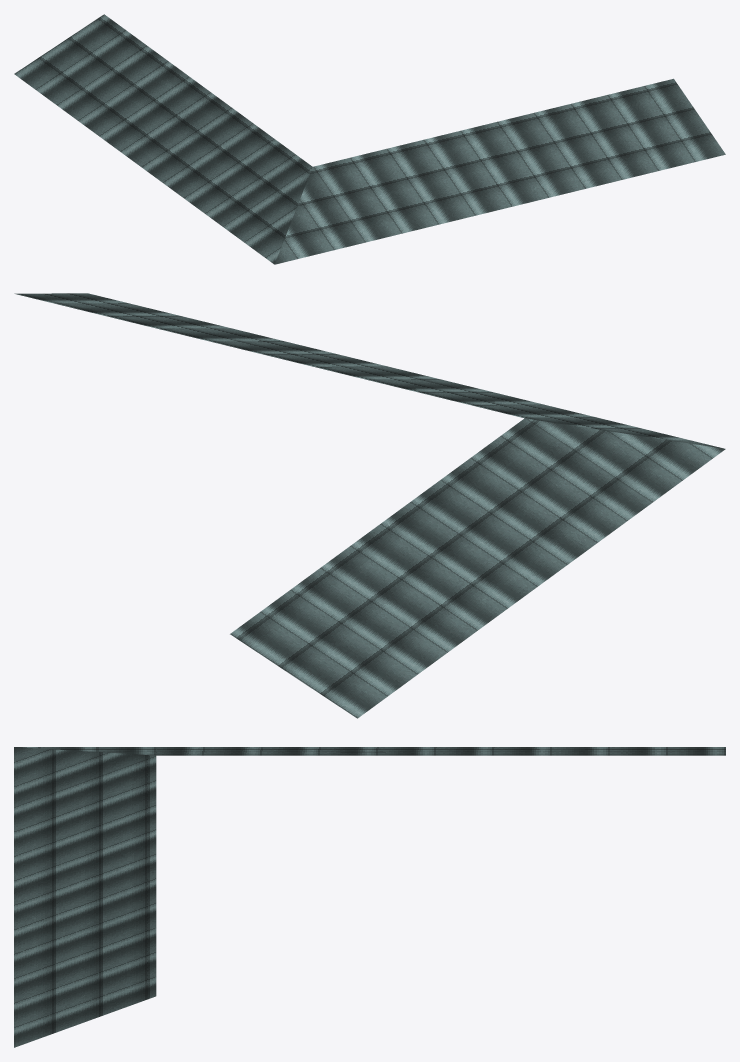
Rendered from roof_edge_corner.glb.
3 views of the same model, one above another, from view 1: azimuth 30°, elevation 25°; view 2: azimuth 150°, elevation 25°; view 3: azimuth 270°, elevation 25° (orthographic). The views are drawn at different scales.
Visible parts, largest first — view 1: roof_edge_corner; view 2: roof_edge_corner; view 3: roof_edge_corner.
Part boxes in pixels (<box>): roof_edge_corner: <box>14,14,725,264</box>; roof_edge_corner: <box>14,293,725,718</box>; roof_edge_corner: <box>14,747,725,1047</box>.
Size of the model in its own units: 5 by 0.4 by 5.
Materials: 1 (1 with a texture image).
